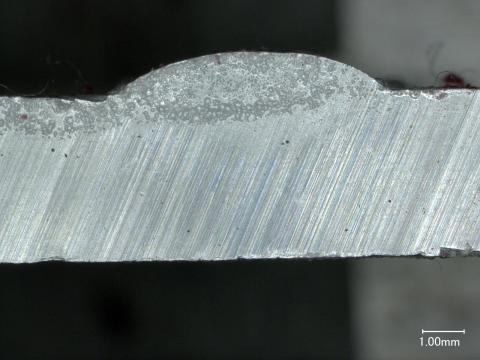test: (105, 52, 385, 96)
